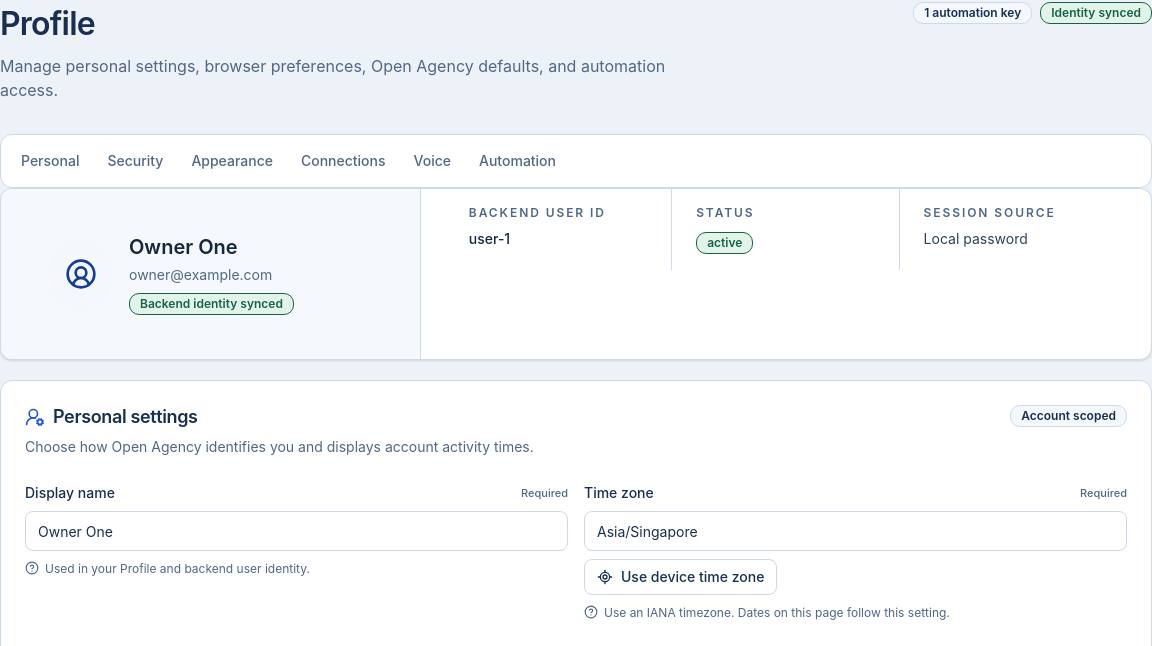
Test: ProfilePage › saves account-scoped personal settings
Expected: the field labelled "Time zone" holds "Asia/Singapore", [584,511,1127,551]
Replace the text in the field labelled "Display name" with "Owner Preferred" at (296, 531), box [25,511,568,551]
(page scrolled)
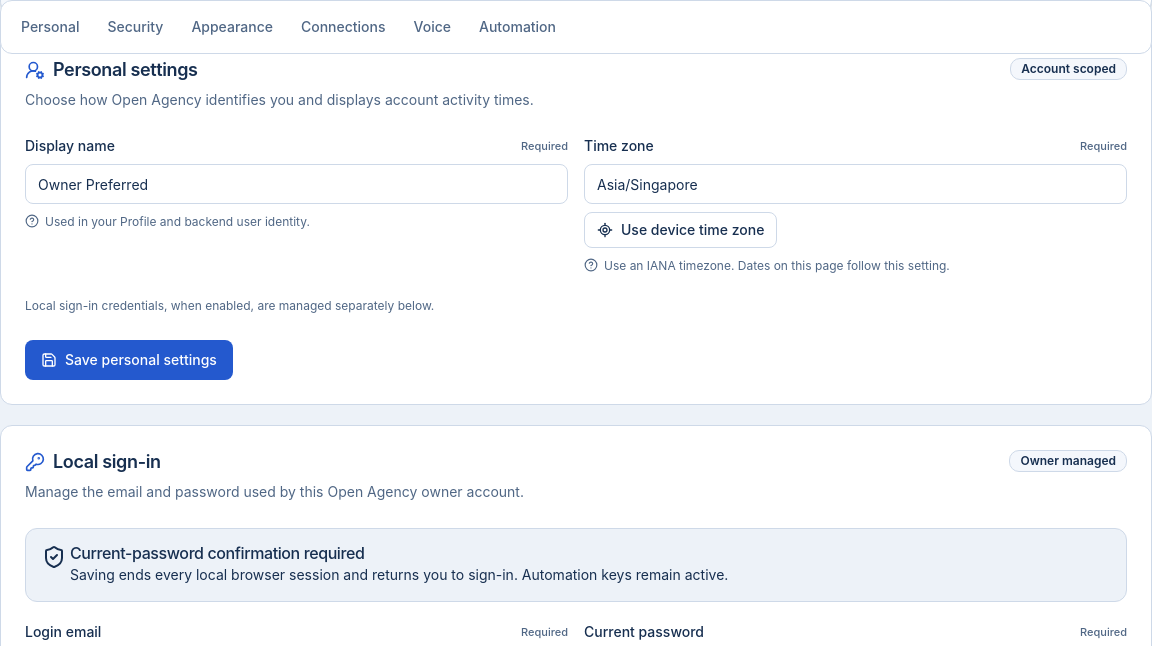
Click the button "Save personal settings" at (129, 360), box [25,340,233,380]
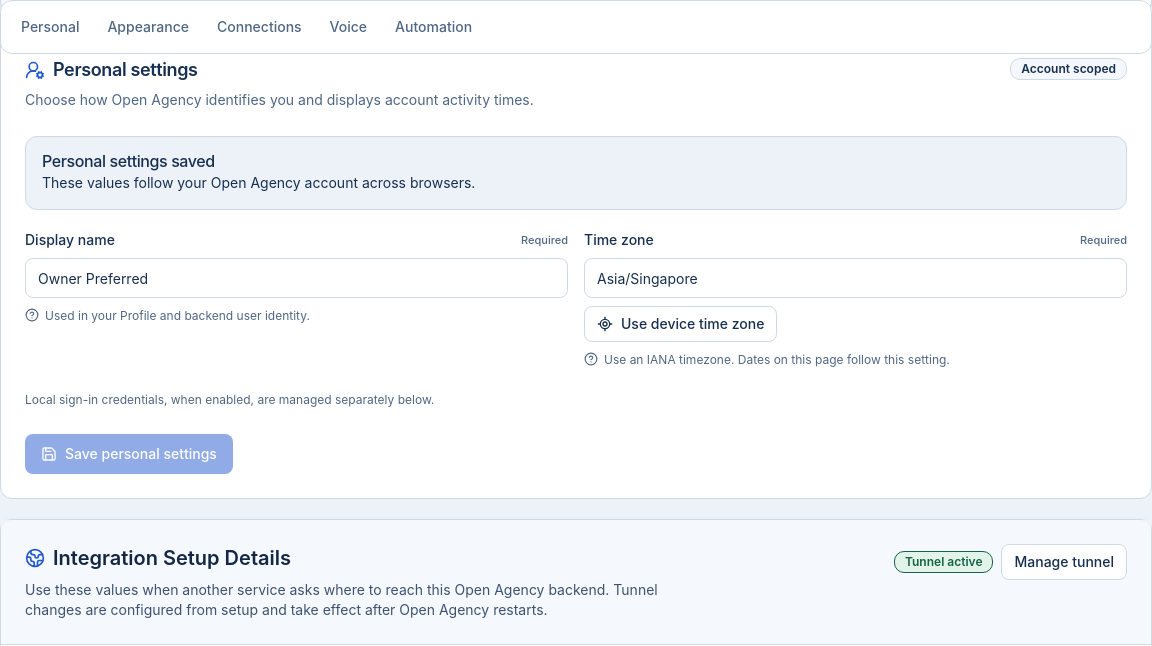
Expected: the heading "Personal settings saved" is shown, [42,151,215,171]
